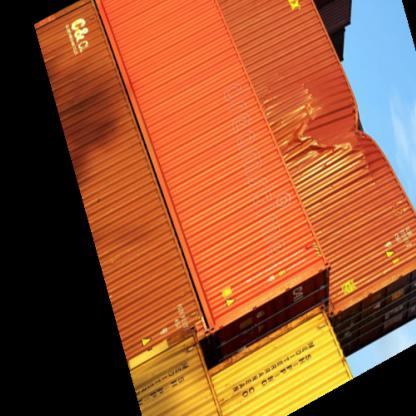Damage: (296, 95, 388, 165)
